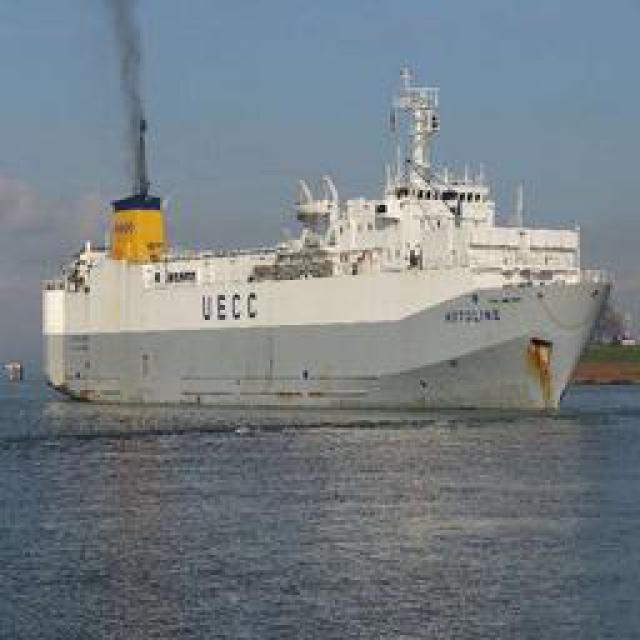Ship: (46, 120, 609, 405)
